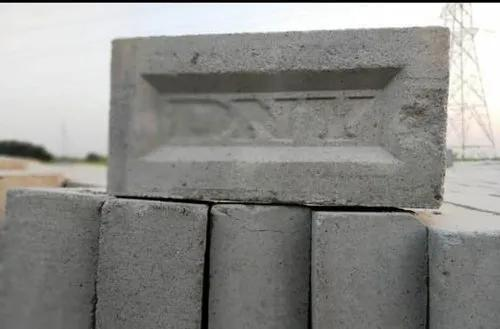brick: (108, 26, 451, 207), (96, 205, 209, 329), (313, 213, 429, 329), (2, 191, 97, 329), (210, 208, 309, 328), (430, 230, 500, 329)
